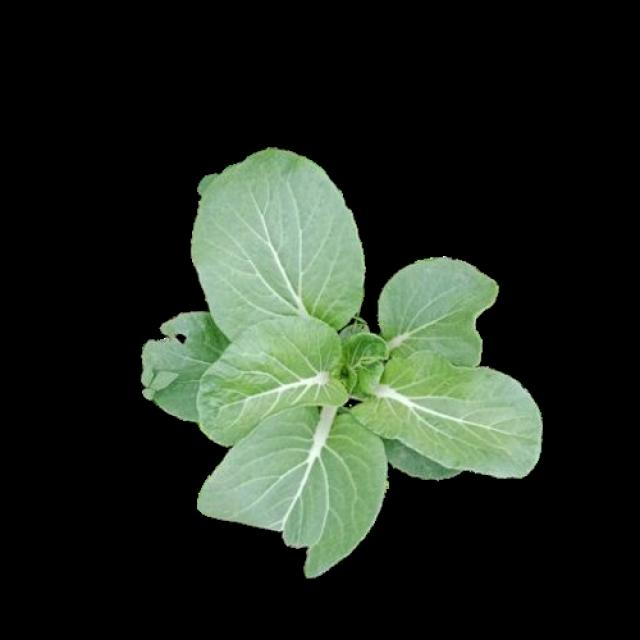not-mature: (144, 150, 542, 574)
unhealthy: (141, 310, 251, 430)
